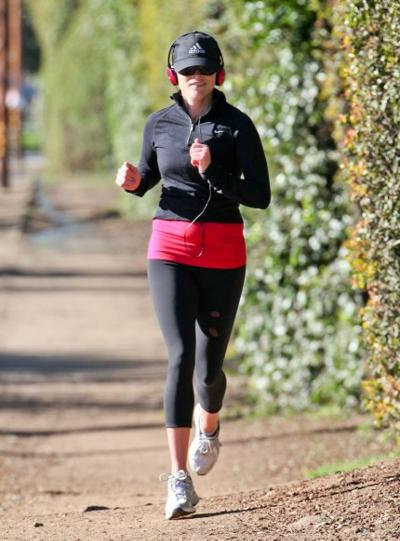person: (115, 30, 271, 525)
